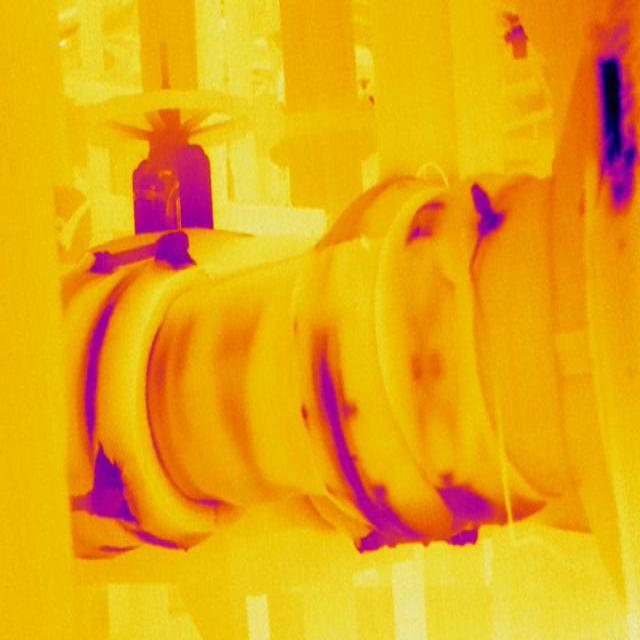leakage: (286, 304, 373, 554), (590, 52, 636, 212), (70, 228, 216, 276), (81, 305, 113, 440), (219, 333, 253, 454), (431, 466, 486, 538), (84, 451, 130, 524), (404, 338, 454, 390), (466, 180, 508, 238), (405, 196, 445, 251), (174, 321, 194, 375)
